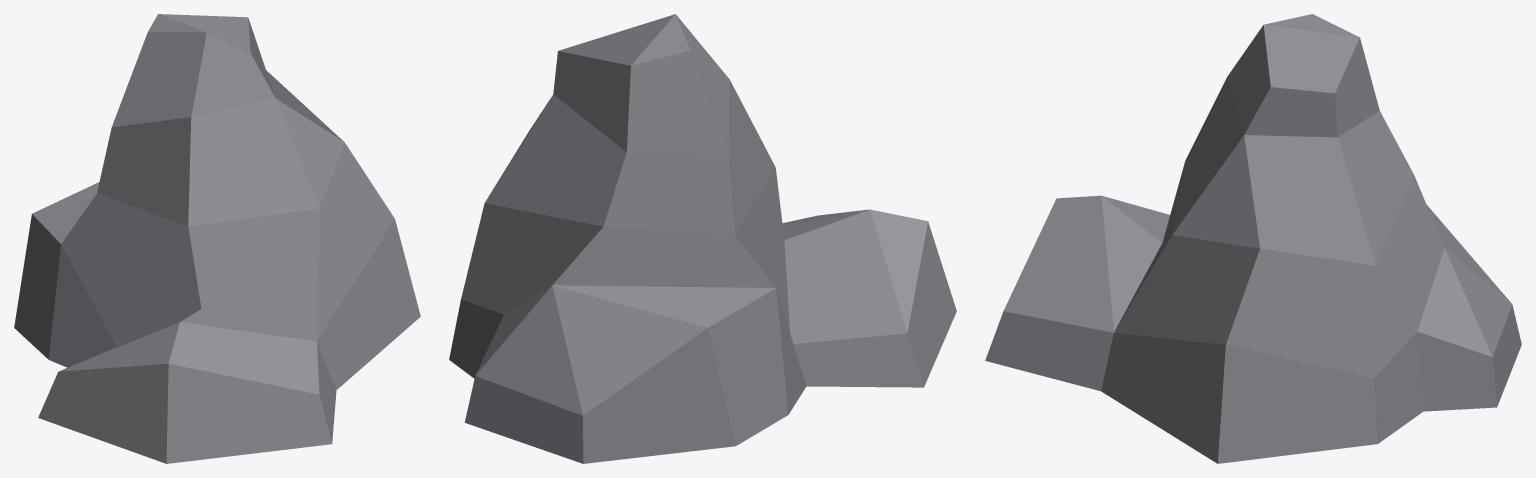
File: stone_7.obj
The picture shows the model from 3 angles, left to right: view 1: azimuth 30°, elevation 25°; view 2: azimuth 150°, elevation 25°; view 3: azimuth 270°, elevation 25°; orthographic projection. The views are drawn at different scales.
Parts seen in each view (by area): view 1: stone_7_Cube.032; view 2: stone_7_Cube.032; view 3: stone_7_Cube.032.
Part boxes in pixels (x1,y1,x2,y2): stone_7_Cube.032: [14, 14, 420, 463]; stone_7_Cube.032: [449, 14, 956, 463]; stone_7_Cube.032: [985, 14, 1521, 463].
Bounding box in the file's own units: 1.86 × 1.43 × 2.06.
